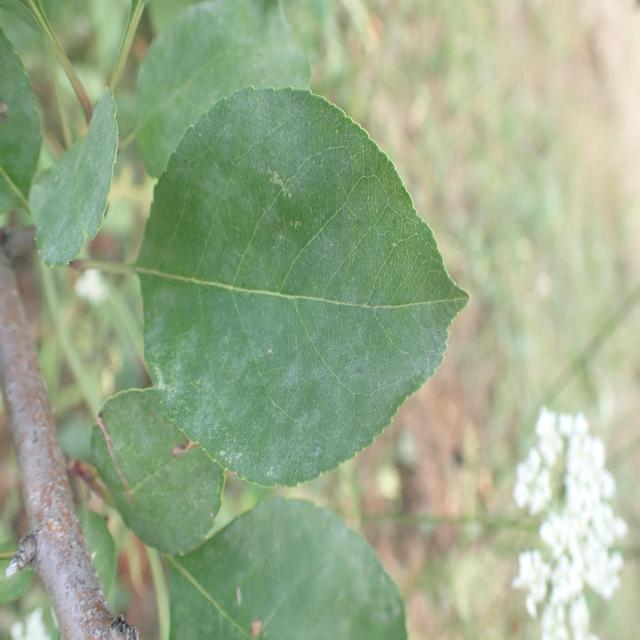Powdery_mildew: (152, 114, 434, 462), (176, 498, 429, 640), (133, 0, 311, 178), (34, 83, 125, 271)
